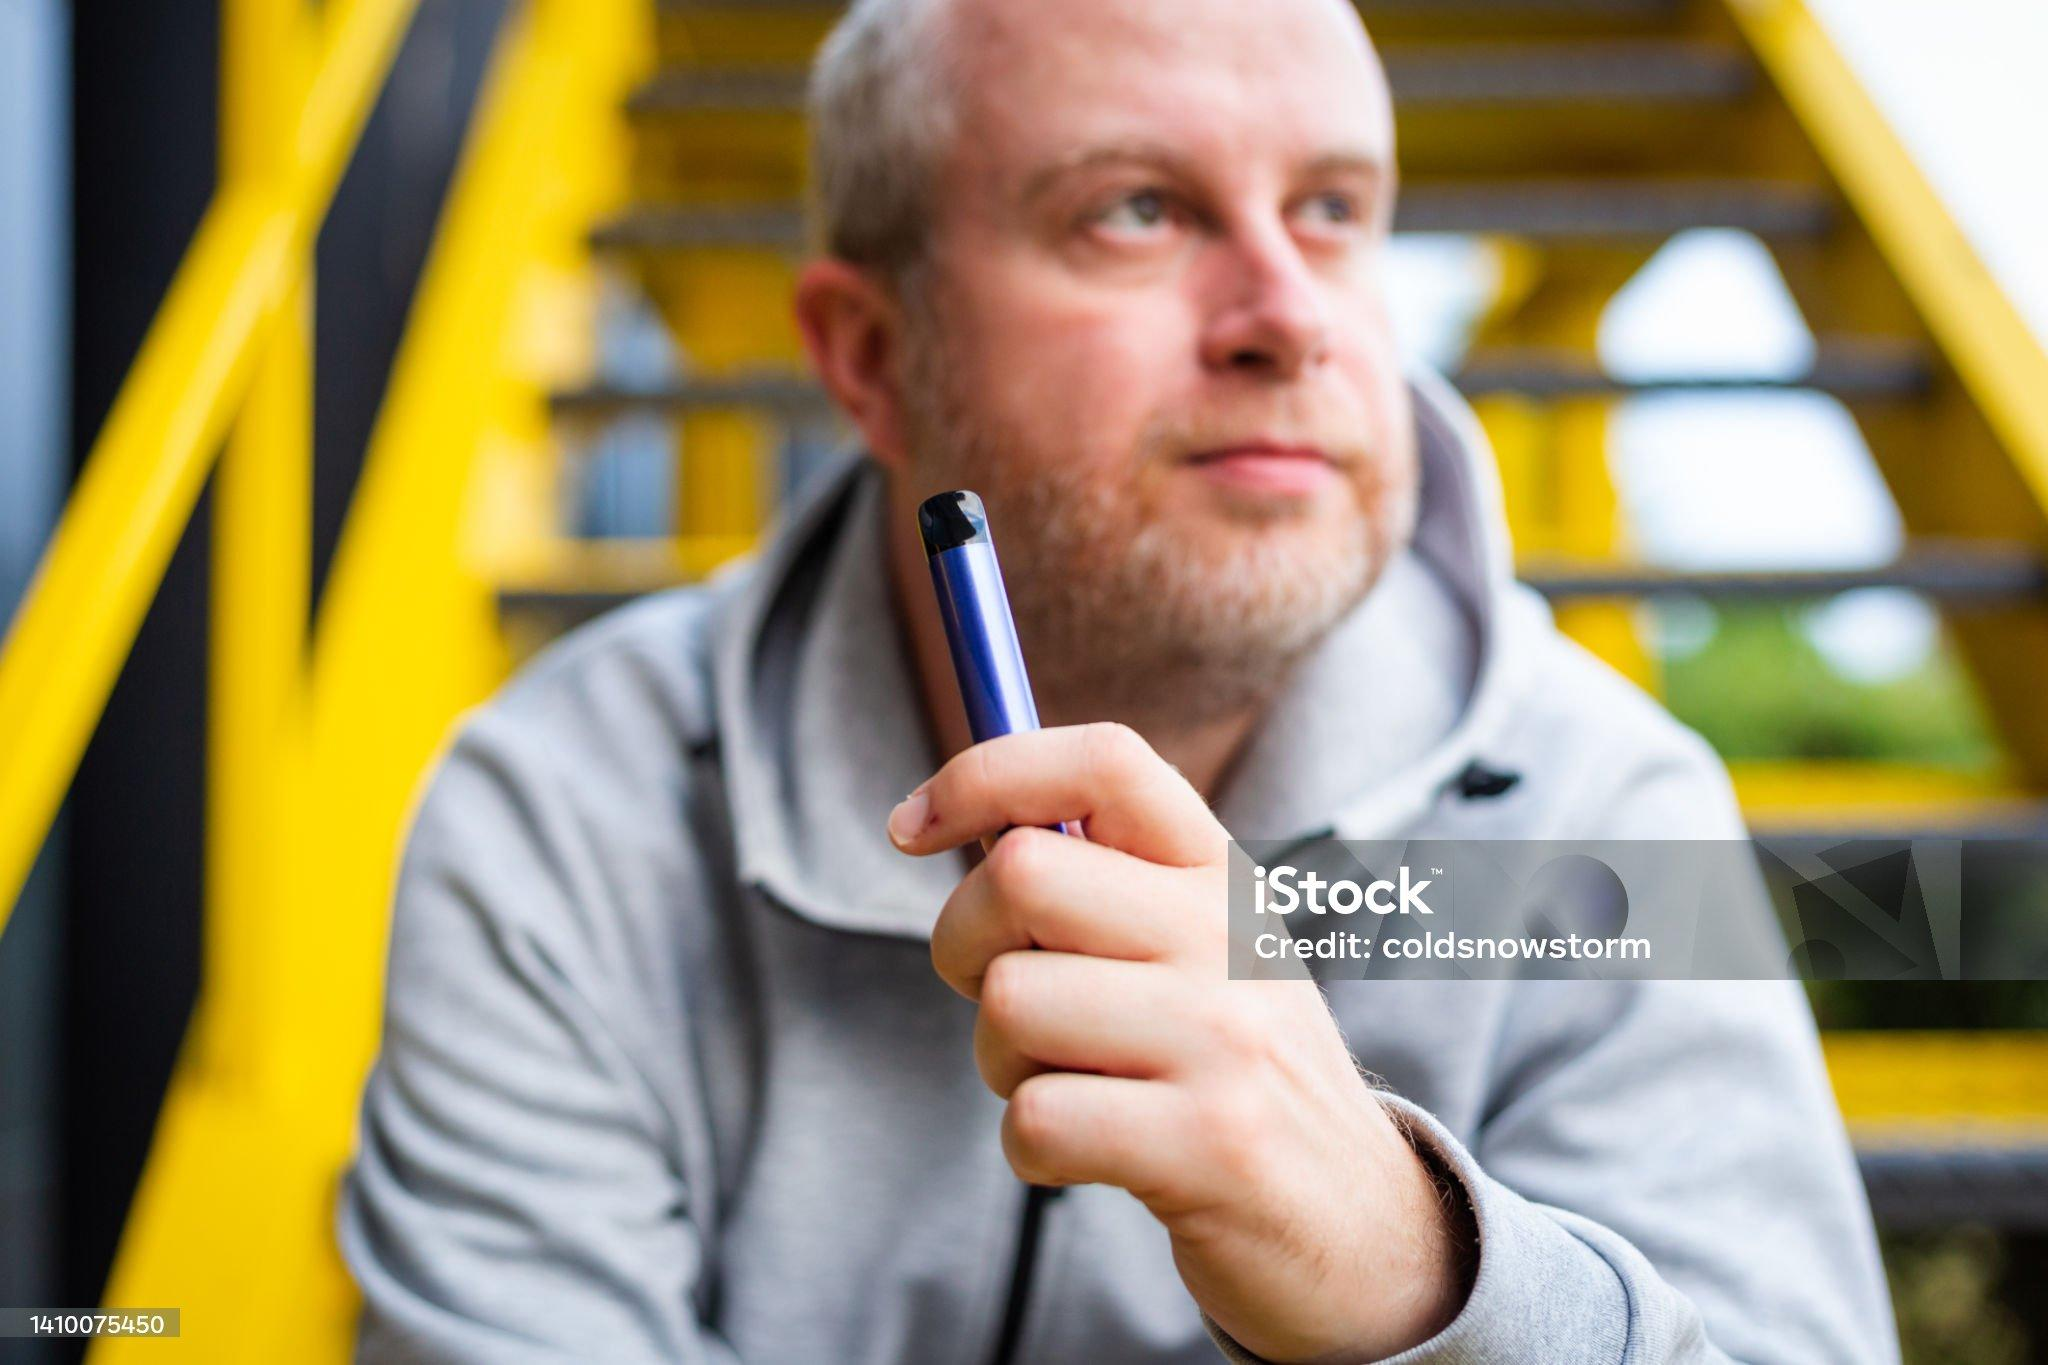Vape: (918, 491, 1042, 743)
